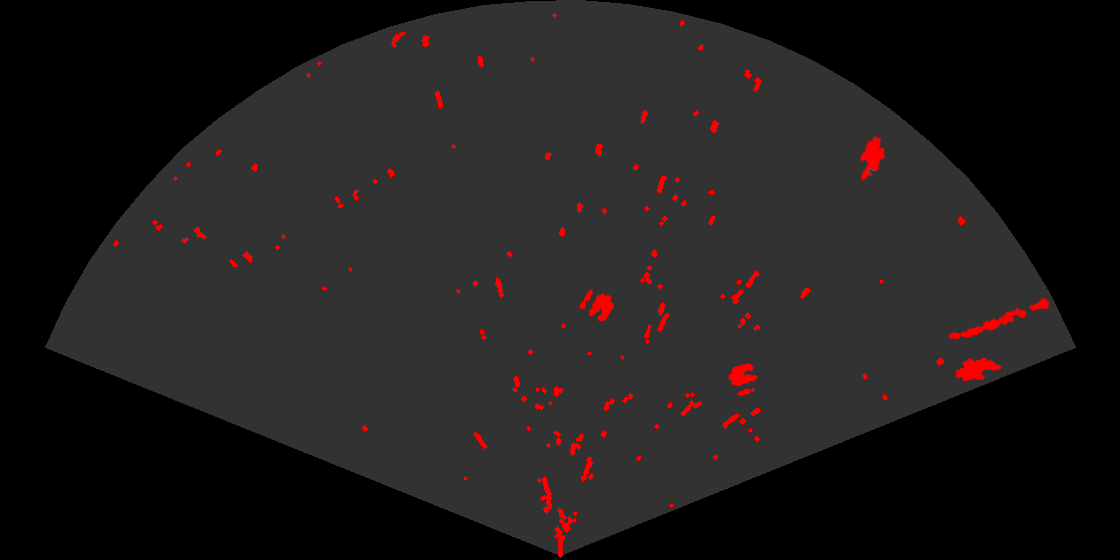AUV: (858, 134, 887, 182), (954, 356, 1003, 383)
ball: (578, 288, 616, 323), (727, 362, 759, 398)
chain: (946, 296, 1052, 341)
